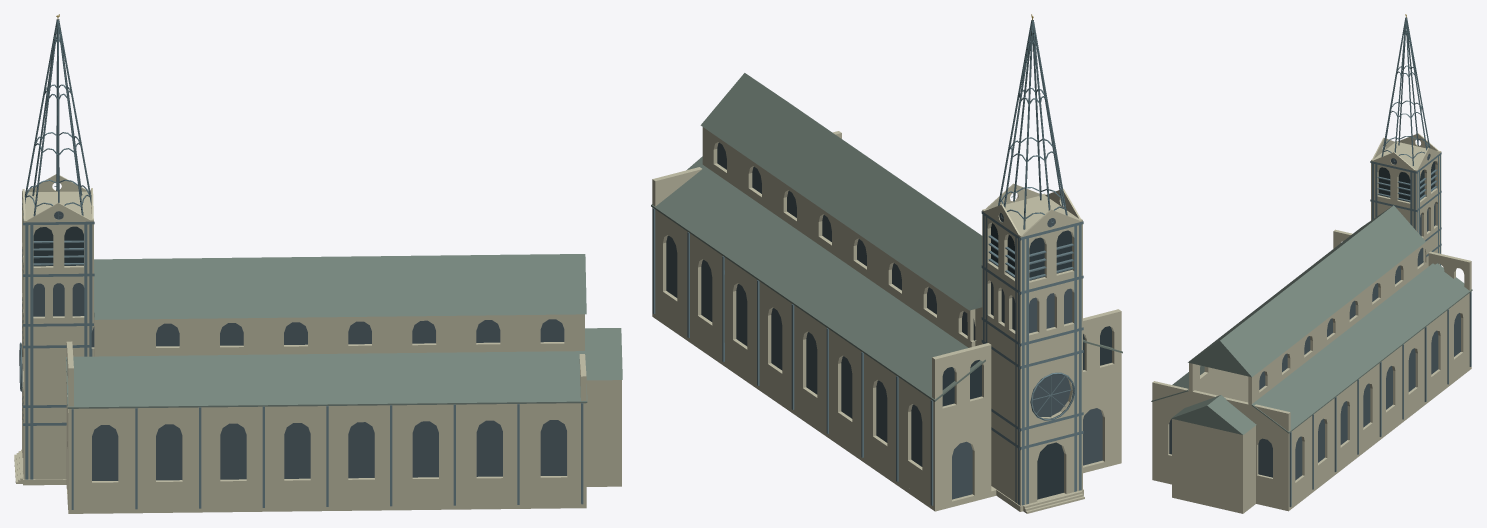
File: cathedrale-saint-louis-fort-de-france-far.glb
3 views of the same model, side by side, from view 1: azimuth 30°, elevation 25°; view 2: azimuth 150°, elevation 25°; view 3: azimuth 270°, elevation 25° (orthographic). The views are drawn at different scales.
Visible parts, largest first — view 1: cathedrale-saint-louis-fort-de-france-0-plaster, cathedrale-saint-louis-fort-de-france-0-roof, cathedrale-saint-louis-fort-de-france-0-glass, cathedrale-saint-louis-fort-de-france-0-metal, cathedrale-saint-louis-fort-de-france-0-lattice, cathedrale-saint-louis-fort-de-france-0-shadow; view 2: cathedrale-saint-louis-fort-de-france-0-plaster, cathedrale-saint-louis-fort-de-france-0-roof, cathedrale-saint-louis-fort-de-france-0-glass, cathedrale-saint-louis-fort-de-france-0-metal, cathedrale-saint-louis-fort-de-france-0-shadow, cathedrale-saint-louis-fort-de-france-0-lattice, cathedrale-saint-louis-fort-de-france-0-brace; view 3: cathedrale-saint-louis-fort-de-france-0-plaster, cathedrale-saint-louis-fort-de-france-0-roof, cathedrale-saint-louis-fort-de-france-0-glass, cathedrale-saint-louis-fort-de-france-0-metal, cathedrale-saint-louis-fort-de-france-0-lattice, cathedrale-saint-louis-fort-de-france-0-shadow.
Boxes of the visible parts, x1,y1,x2,y2 form: cathedrale-saint-louis-fort-de-france-0-plaster: (14, 174, 621, 513); cathedrale-saint-louis-fort-de-france-0-roof: (66, 254, 622, 408); cathedrale-saint-louis-fort-de-france-0-glass: (33, 211, 566, 480); cathedrale-saint-louis-fort-de-france-0-metal: (19, 186, 583, 509); cathedrale-saint-louis-fort-de-france-0-lattice: (24, 19, 91, 219); cathedrale-saint-louis-fort-de-france-0-shadow: (33, 226, 83, 266); cathedrale-saint-louis-fort-de-france-0-plaster: (652, 127, 1121, 513); cathedrale-saint-louis-fort-de-france-0-roof: (651, 73, 1122, 401); cathedrale-saint-louis-fort-de-france-0-glass: (666, 142, 1102, 499); cathedrale-saint-louis-fort-de-france-0-metal: (652, 194, 1083, 505); cathedrale-saint-louis-fort-de-france-0-shadow: (942, 223, 1111, 499); cathedrale-saint-louis-fort-de-france-0-lattice: (998, 20, 1067, 229); cathedrale-saint-louis-fort-de-france-0-brace: (999, 39, 1065, 219); cathedrale-saint-louis-fort-de-france-0-plaster: (1152, 133, 1471, 513); cathedrale-saint-louis-fort-de-france-0-roof: (1151, 205, 1472, 434); cathedrale-saint-louis-fort-de-france-0-glass: (1169, 153, 1460, 480); cathedrale-saint-louis-fort-de-france-0-metal: (1289, 140, 1471, 507); cathedrale-saint-louis-fort-de-france-0-lattice: (1381, 17, 1430, 165); cathedrale-saint-louis-fort-de-france-0-shadow: (1378, 161, 1435, 202).
Bounding box in the file's own units: 67.25 × 58.8 × 50.71.
